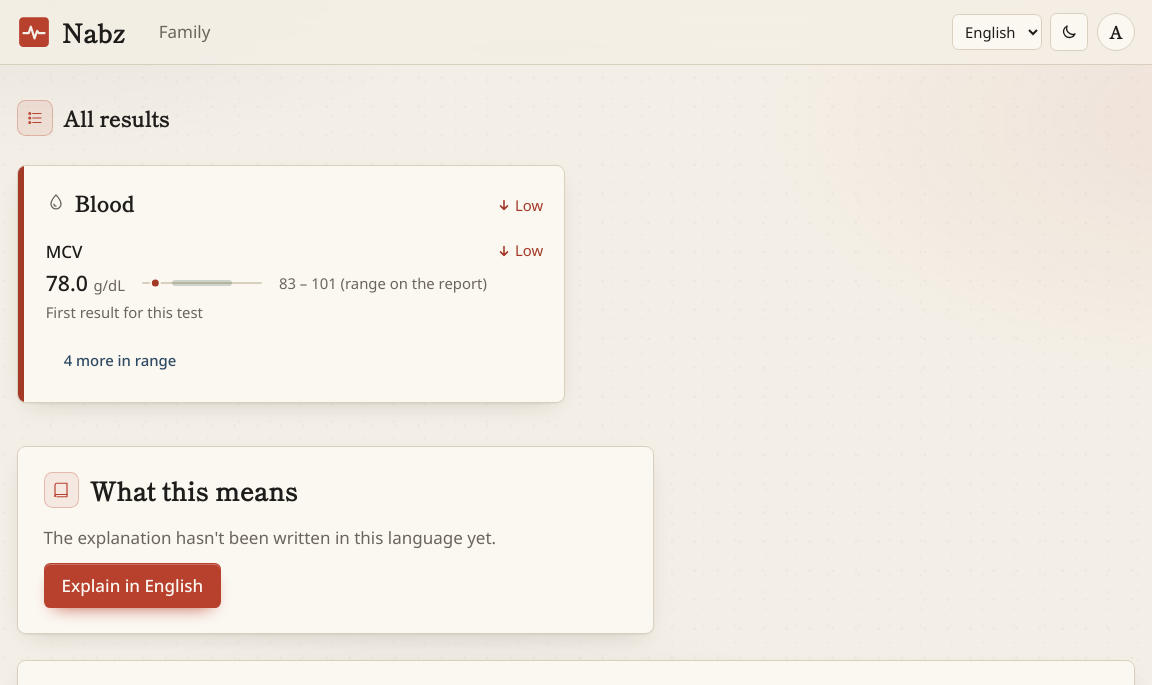
Insights › folds results in range behind a button
This screenshot has width=1152, height=685.
(page scrolled)
Expected: the link "MCV" is shown, 46,239 -> 82,264
Expected: the text "WBC" is not shown
Step 1. Click the button "4 more in range" → (120, 361), box 46,341 -> 194,381
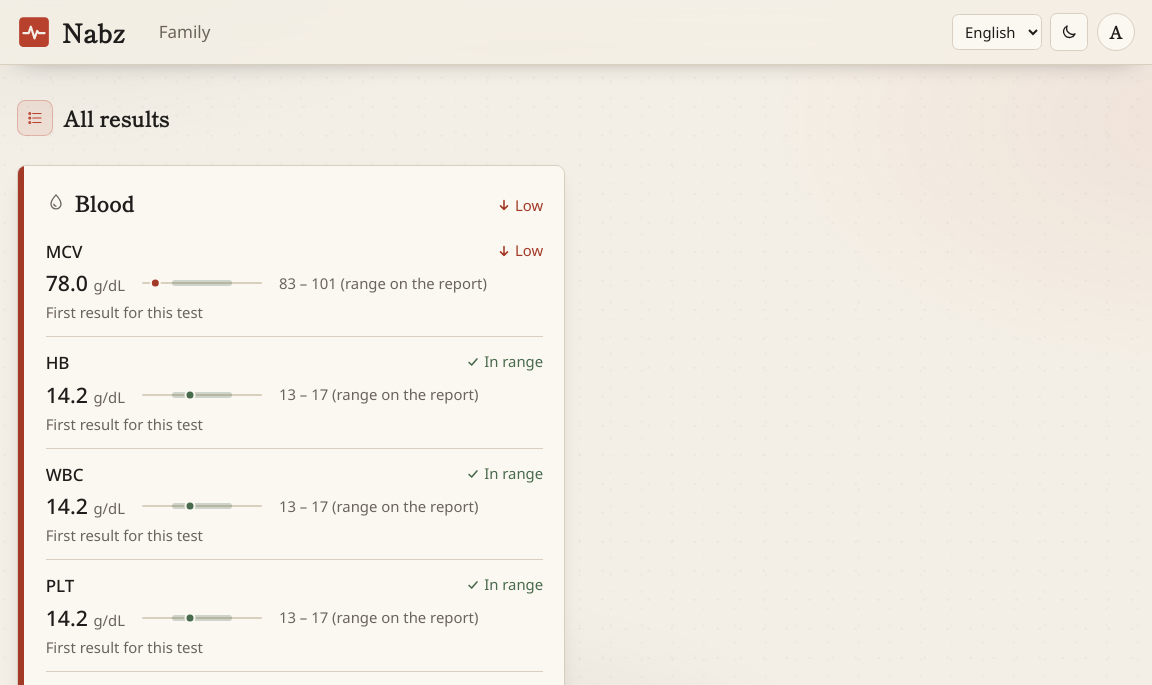
Result: the link "WBC" is shown at 46,462 -> 84,487
